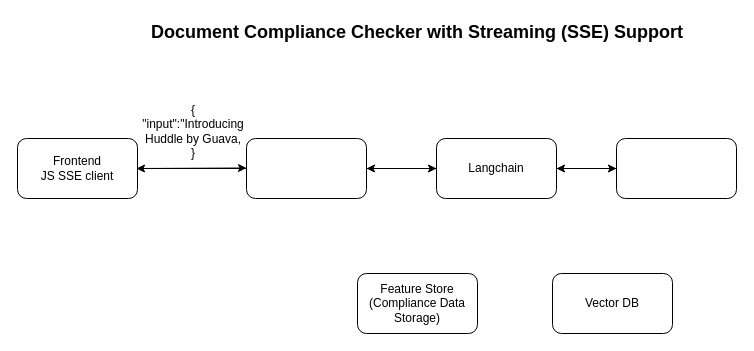
This 754x351 diagram has some shape labels left out. Each missing label, with the centre of its shape:
FastAPI POST /stream: point (306, 168)
OpenAI ChatGPT: point (676, 168)
